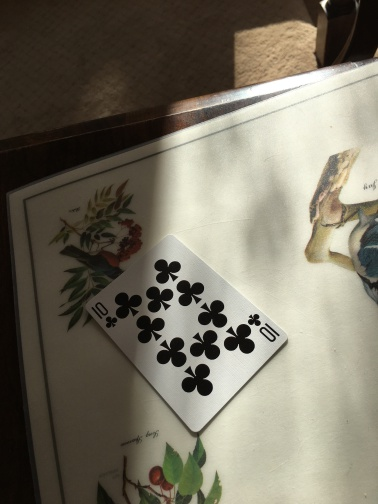ten: (83, 233, 288, 432)
